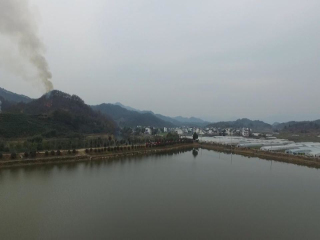smoke: (1, 6, 54, 98)
